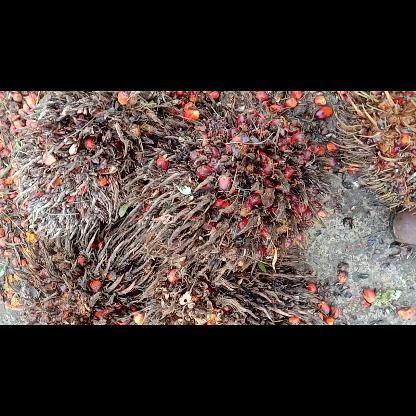Terlalu masak: (127, 96, 338, 282), (9, 90, 224, 252), (135, 232, 327, 324), (0, 226, 156, 324)
